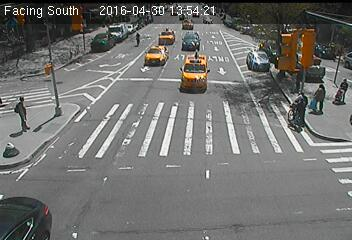neg: (38, 173, 80, 230), (209, 151, 246, 200), (90, 96, 125, 142), (281, 17, 307, 51), (144, 149, 170, 183), (243, 58, 267, 91), (70, 22, 94, 54), (239, 15, 261, 44), (137, 67, 159, 96), (107, 7, 129, 35), (194, 73, 214, 100), (194, 8, 214, 34), (314, 32, 331, 54), (155, 10, 171, 32), (39, 32, 55, 53), (227, 116, 234, 125)
pos: (4, 94, 35, 136), (308, 78, 338, 117), (333, 76, 351, 105)
